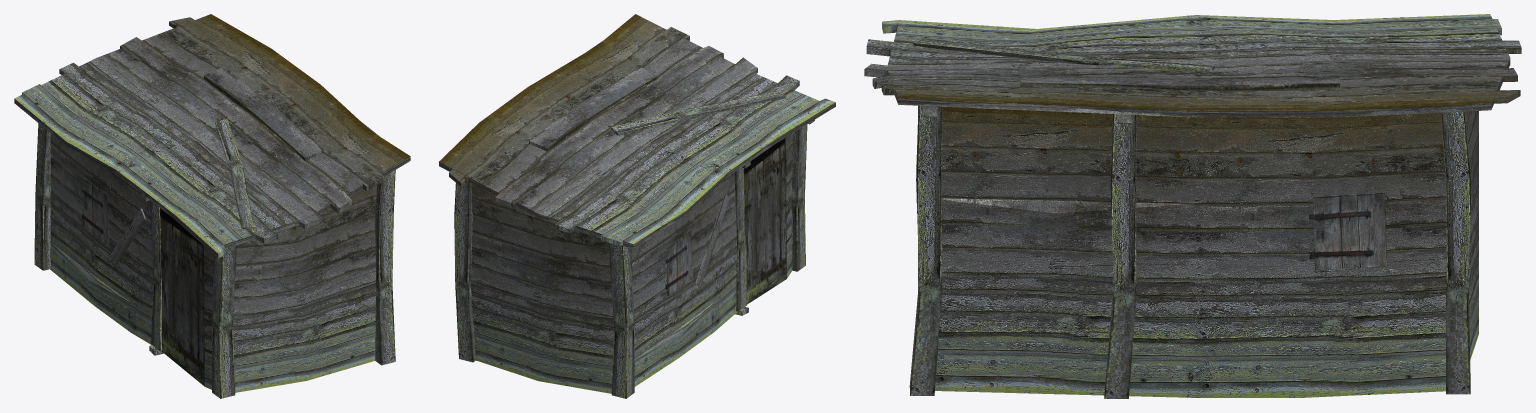
File: barn01_LOD02.fbx
3 renders of one model, left to right at view 1: azimuth 30°, elevation 25°; view 2: azimuth 150°, elevation 25°; view 3: azimuth 270°, elevation 25°, orthographic. The views are drawn at different scales.
Visible parts, largest first — view 1: Mesh Object; view 2: Mesh Object; view 3: Mesh Object.
Part boxes in pixels (x1,y1,x2,y2): Mesh Object: (14, 14, 410, 398); Mesh Object: (439, 14, 835, 398); Mesh Object: (864, 14, 1521, 398).
Size of the model in its own units: 2.29 by 2.17 by 4.22.
